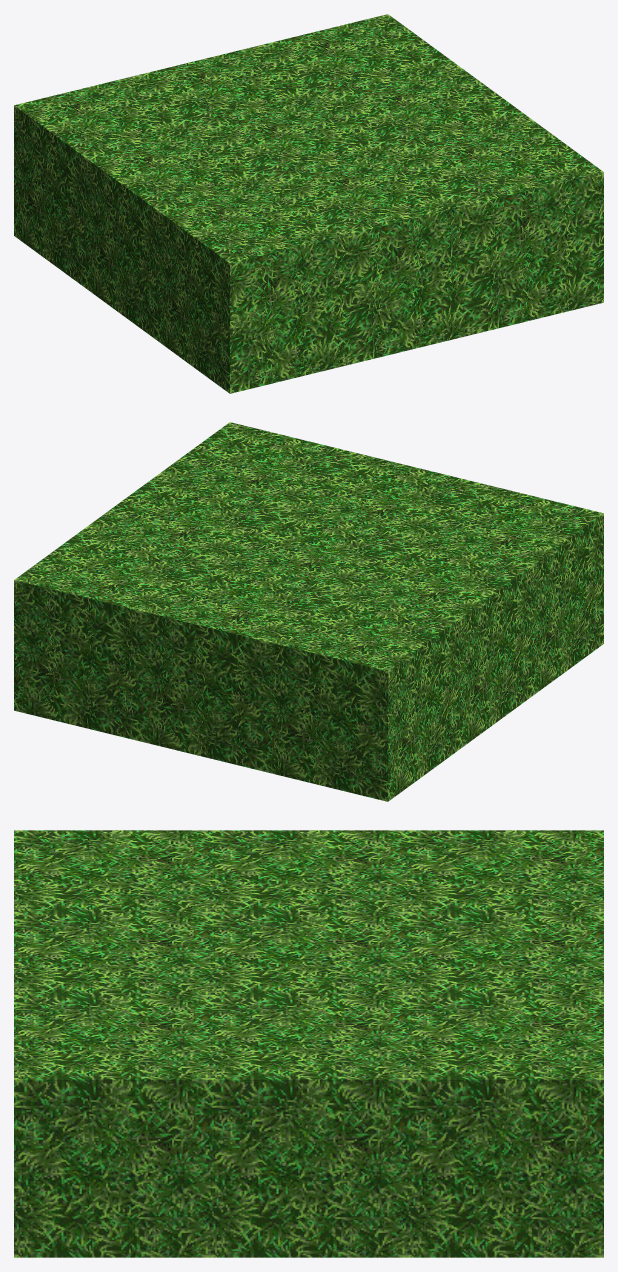
The model's file is TilesUp3Dfbx.fbx.
The picture shows the model from 3 angles, top to bottom: view 1: azimuth 30°, elevation 25°; view 2: azimuth 150°, elevation 25°; view 3: azimuth 270°, elevation 25°; orthographic projection. The views are drawn at different scales.
Visible parts, largest first — view 1: Up_Front_Left, Up_Front_Center, Up_Front_Right, Up_Back_Left, Up_InBetween_Left, Up_Back_Center, Up_InBetween_Center, Up_Back_Right, Up_InBetween_Right; view 2: Up_Back_Left, Up_Back_Center, Up_Back_Right, Up_Front_Left, Up_InBetween_Left, Up_Front_Center, Up_InBetween_Center, Up_Front_Right, Up_InBetween_Right; view 3: Up_InBetween_Right, Up_Back_Right, Up_Front_Right, Up_InBetween_Center, Up_InBetween_Left, Up_Back_Center, Up_Back_Left, Up_Front_Center, Up_Front_Left.
Part boxes in pixels (box(x1,y1,x2,y2)): Up_Front_Left: box(158, 180, 354, 393); Up_Front_Center: box(283, 150, 479, 363); Up_Front_Right: box(408, 119, 603, 332); Up_Back_Left: box(14, 75, 209, 288); Up_InBetween_Left: box(86, 127, 281, 340); Up_Back_Center: box(139, 44, 334, 127); Up_InBetween_Center: box(211, 97, 406, 180); Up_Back_Right: box(263, 14, 459, 96); Up_InBetween_Right: box(335, 67, 531, 149); Up_Back_Left: box(263, 588, 459, 801); Up_Back_Center: box(138, 558, 334, 771); Up_Back_Right: box(14, 527, 209, 740); Up_Front_Left: box(408, 483, 603, 696); Up_InBetween_Left: box(336, 535, 531, 748); Up_Front_Center: box(283, 452, 478, 535); Up_InBetween_Center: box(211, 505, 406, 588); Up_Front_Right: box(158, 422, 354, 504); Up_InBetween_Right: box(86, 475, 282, 557); Up_InBetween_Right: box(210, 996, 407, 1257); Up_Back_Right: box(407, 996, 603, 1257); Up_Front_Right: box(14, 996, 210, 1257); Up_InBetween_Center: box(210, 913, 407, 996); Up_InBetween_Left: box(210, 830, 407, 913); Up_Back_Center: box(407, 913, 603, 996); Up_Back_Left: box(407, 830, 603, 913); Up_Front_Center: box(14, 913, 210, 996); Up_Front_Left: box(14, 830, 210, 913).
Bounding box in the file's own units: 6 × 2 × 6.
